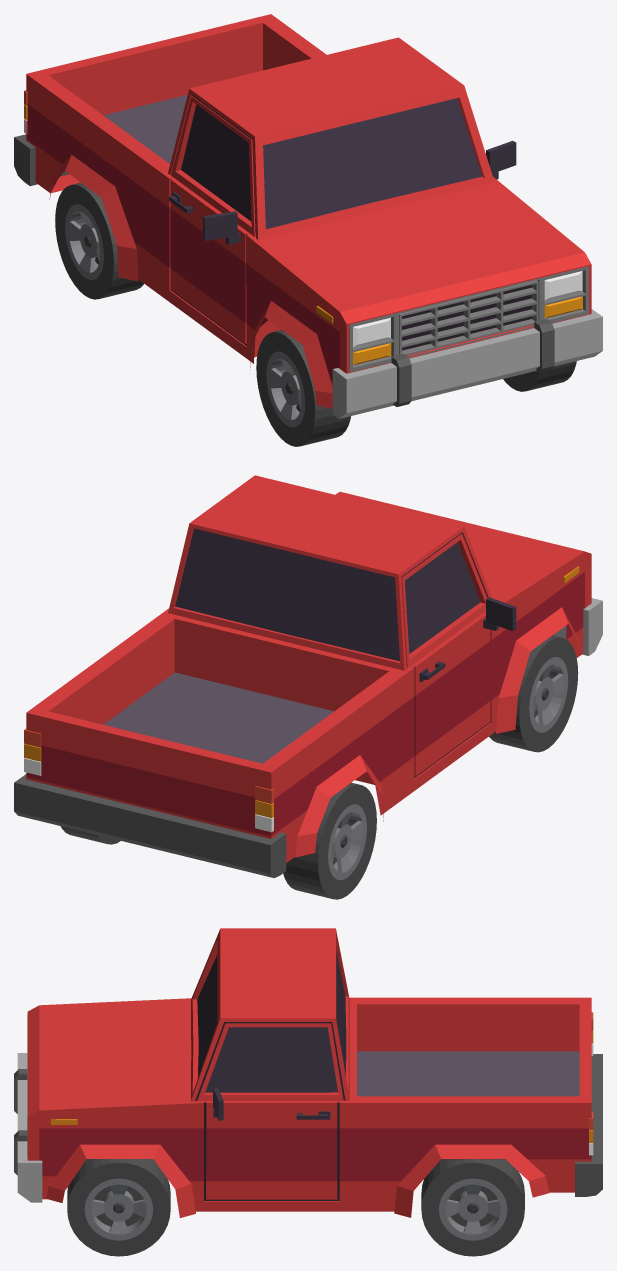
Rendered from PickUp Vermelho PRONTO.fbx.
The picture shows the model from 3 angles, top to bottom: view 1: azimuth 30°, elevation 25°; view 2: azimuth 150°, elevation 25°; view 3: azimuth 270°, elevation 25°; orthographic projection. The views are drawn at different scales.
Visible parts, largest first — view 1: Car; view 2: Car; view 3: Car.
Boxes of the visible parts, <box> form: Car: <box>14,14,602,446</box>; Car: <box>14,475,602,899</box>; Car: <box>14,928,602,1256</box>.
Size of the model in its own units: 806 by 637 by 1501.
